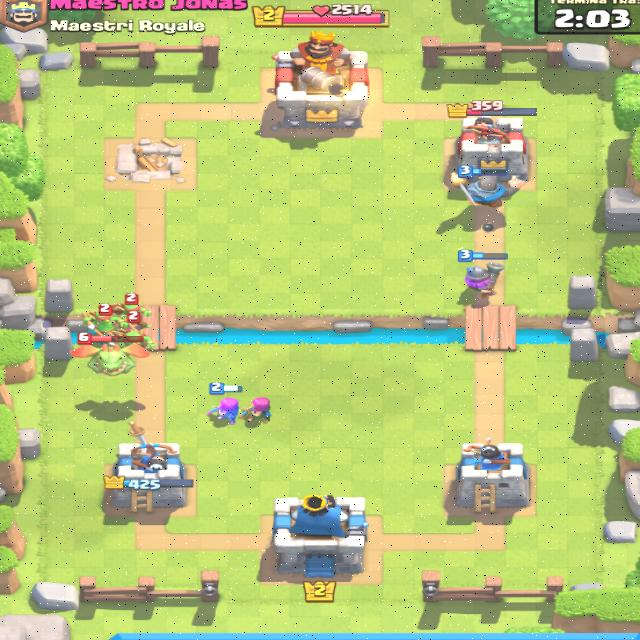Enemy-BabyDragon: (74, 329, 148, 375)
Enemy-SpearGoblin: (113, 311, 154, 352), (91, 304, 131, 342), (119, 310, 146, 350)
Player-Archer: (208, 387, 247, 426), (245, 391, 278, 424)
Player-Knight: (460, 167, 523, 211)
Player-Musketeer: (455, 248, 512, 306)
